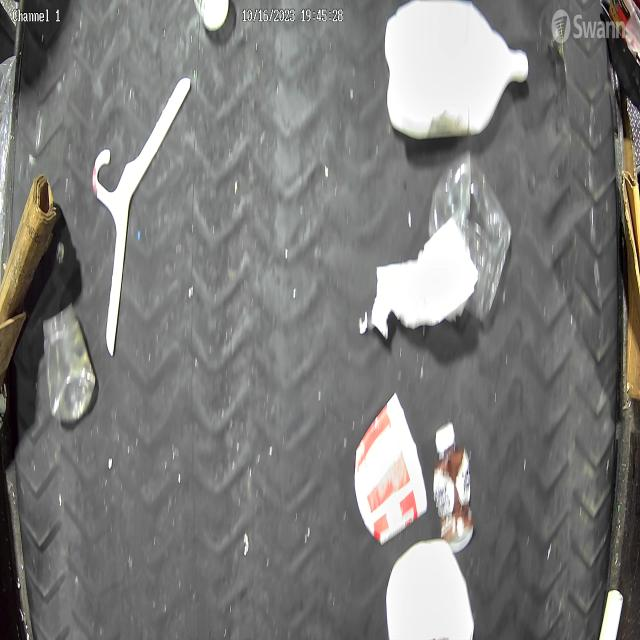milk_jug: (384, 0, 529, 140)
